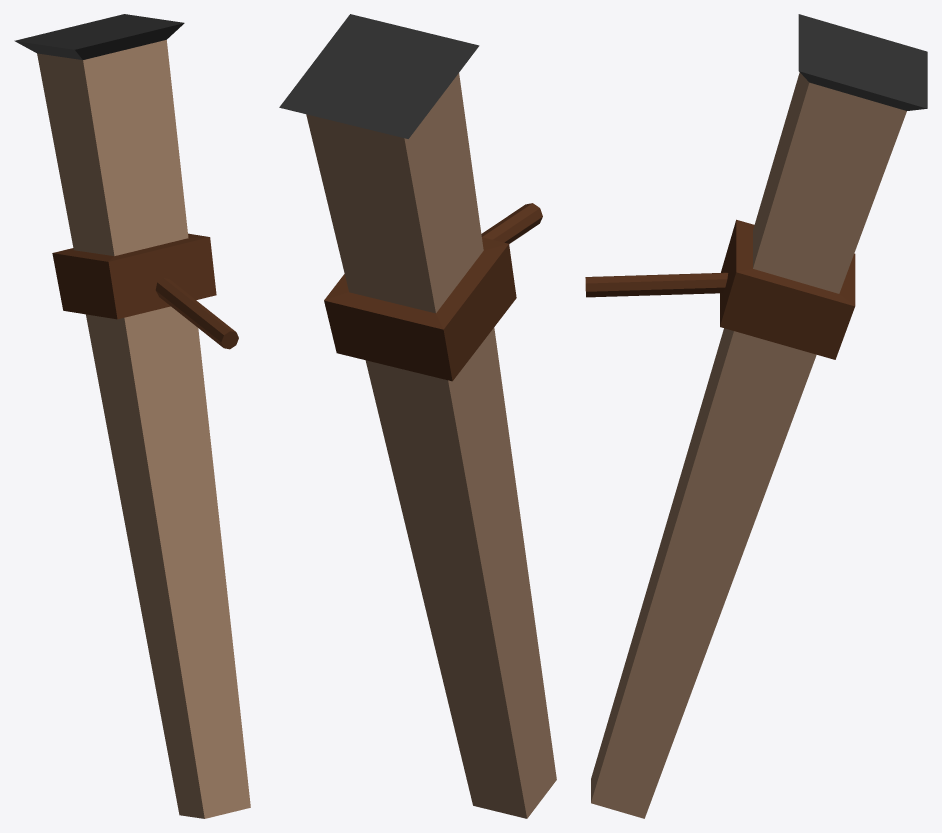
Rendered from Torch.fbx.
3 views of the same model, side by side, from view 1: azimuth 30°, elevation 25°; view 2: azimuth 150°, elevation 25°; view 3: azimuth 270°, elevation 25° (orthographic). The views are drawn at different scales.
Parts seen in each view (by area): view 1: Cube; view 2: Cube; view 3: Cube.
Boxes of the visible parts, box(x1,y1,x2,y2) form: Cube: box(14, 14, 250, 818); Cube: box(279, 14, 556, 818); Cube: box(585, 14, 927, 818).
Size of the model in its own units: 11.81 by 73.67 by 29.87.
